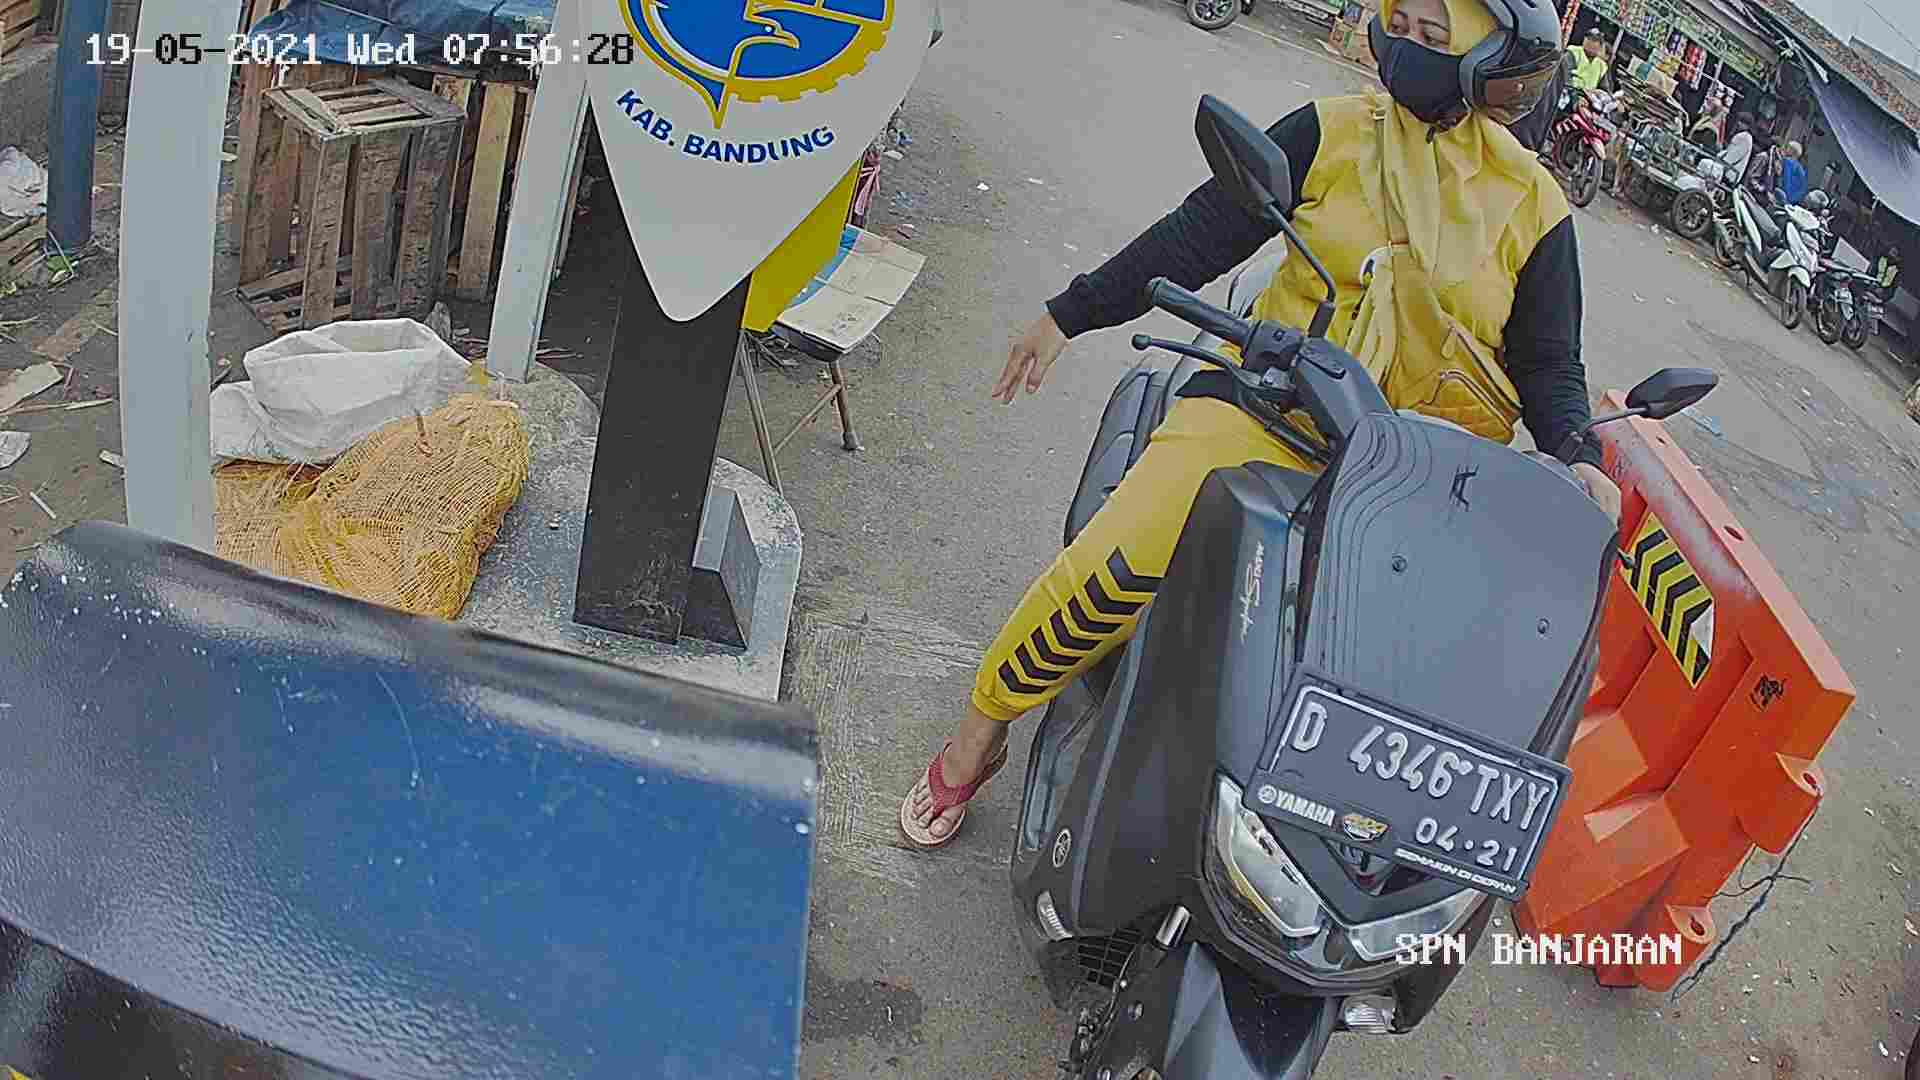motor: (1054, 277, 1606, 1080)
